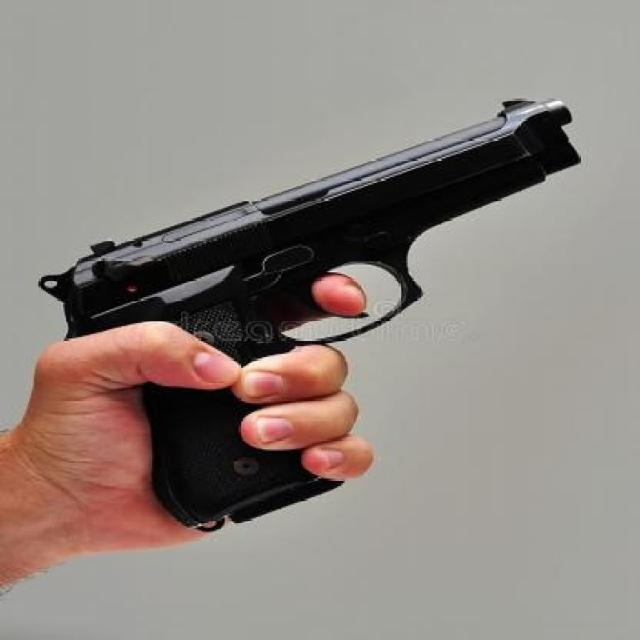gun: (16, 32, 584, 568)
